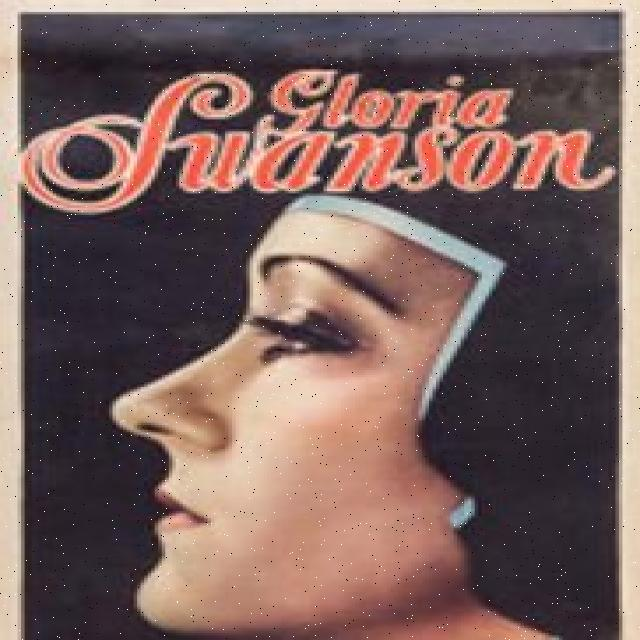movie-judul: (18, 53, 620, 208)
picture: (26, 210, 636, 640)
